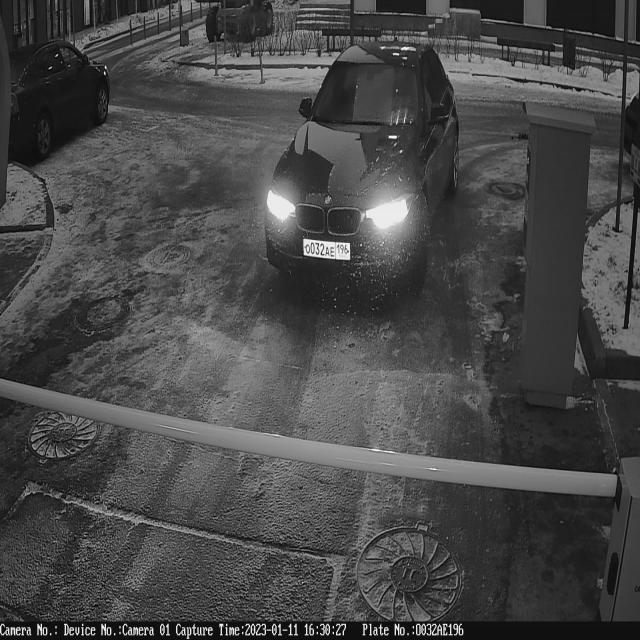car-plate-numbers: (301, 235, 357, 267)
